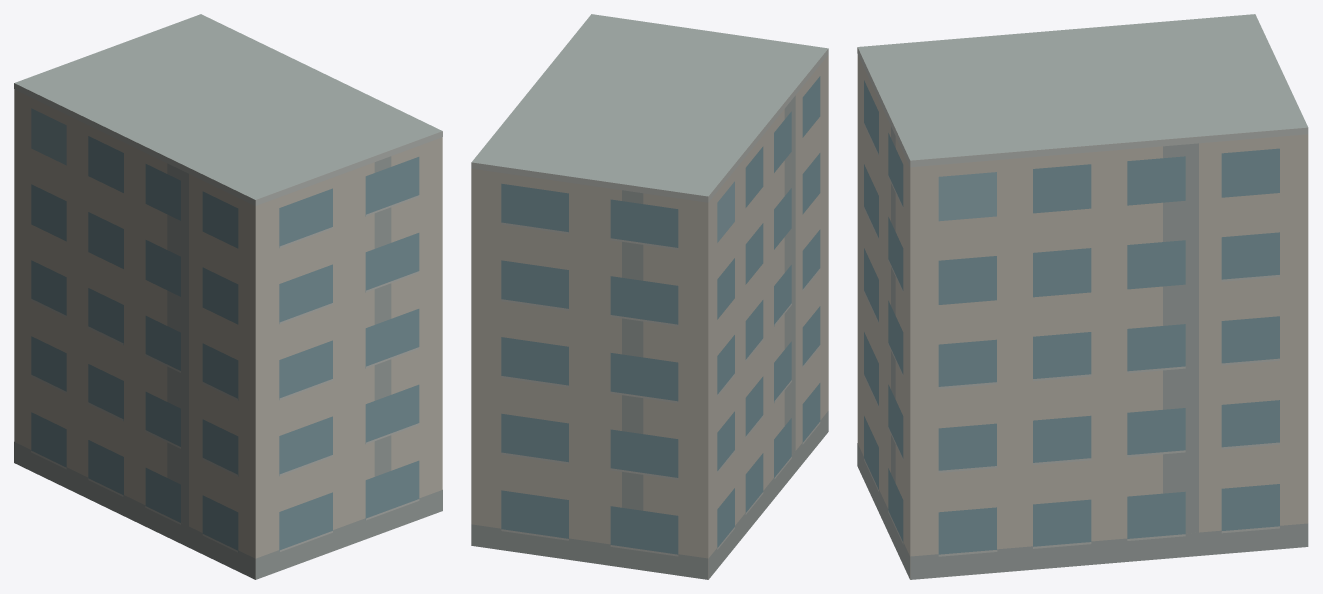
Rendered from residential-b8d1c800-7a84-4ed0-bdcf-43aca5ebfaf7.glb.
The picture shows the model from 3 angles, left to right: view 1: azimuth 30°, elevation 25°; view 2: azimuth 150°, elevation 25°; view 3: azimuth 270°, elevation 25°; orthographic projection. The views are drawn at different scales.
Parts seen in each view (by area): view 1: residential-b8d1c800-7a84-4ed0-bdcf-43aca5ebfaf7.tmp; view 2: residential-b8d1c800-7a84-4ed0-bdcf-43aca5ebfaf7.tmp; view 3: residential-b8d1c800-7a84-4ed0-bdcf-43aca5ebfaf7.tmp.
Boxes of the visible parts, bbox=[...] form: residential-b8d1c800-7a84-4ed0-bdcf-43aca5ebfaf7.tmp: bbox=[14, 14, 442, 579]; residential-b8d1c800-7a84-4ed0-bdcf-43aca5ebfaf7.tmp: bbox=[471, 14, 828, 579]; residential-b8d1c800-7a84-4ed0-bdcf-43aca5ebfaf7.tmp: bbox=[857, 14, 1308, 579].
Size of the model in its own units: 11.45 by 15.25 by 14.87.
